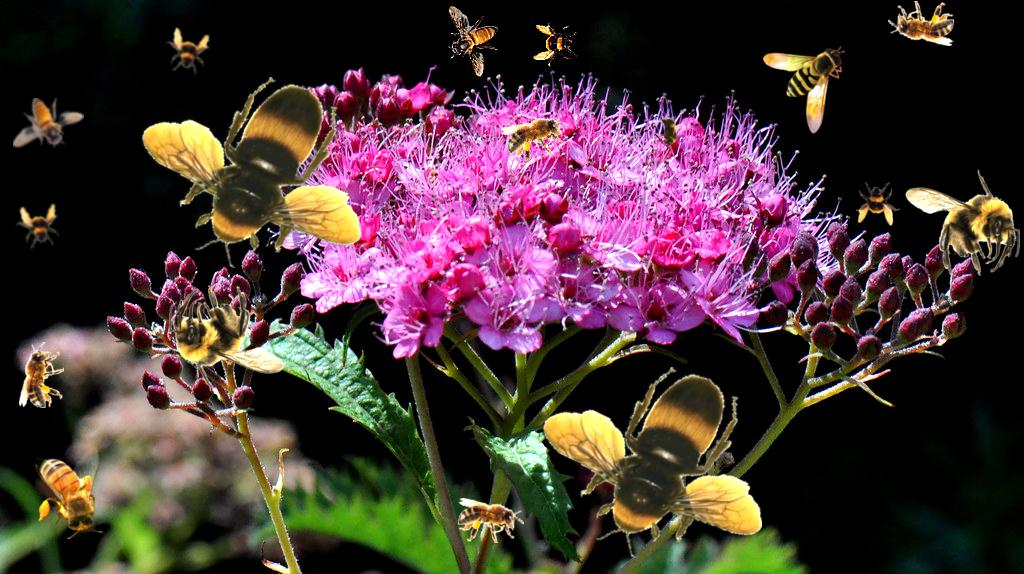Bee: (141, 77, 361, 268), (542, 367, 762, 558), (905, 169, 1020, 276), (169, 285, 284, 392), (763, 46, 845, 134), (35, 446, 103, 539), (498, 102, 578, 171), (448, 6, 498, 77), (13, 98, 84, 148), (458, 498, 524, 543), (888, 1, 954, 46), (19, 342, 64, 408), (12, 200, 64, 252), (162, 26, 212, 76), (856, 182, 900, 226), (533, 23, 577, 67), (658, 112, 680, 152)
